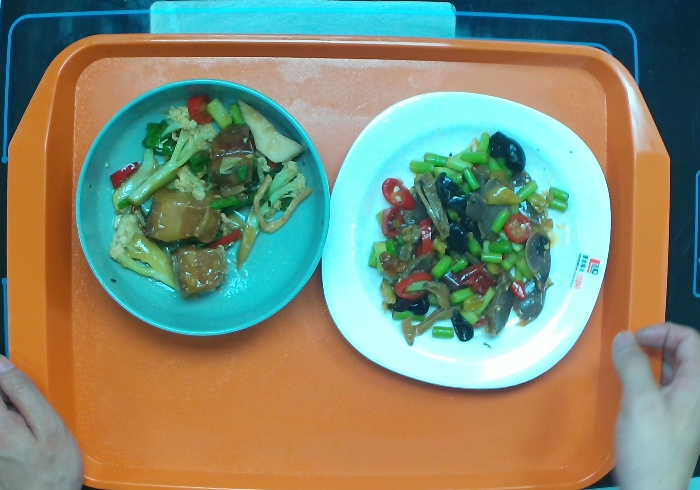ZNLD-Qing_Hua_Yuan_Wan: (74, 77, 331, 337)
ZNLD-Yuan_Jiao_Pan: (319, 90, 613, 390)
